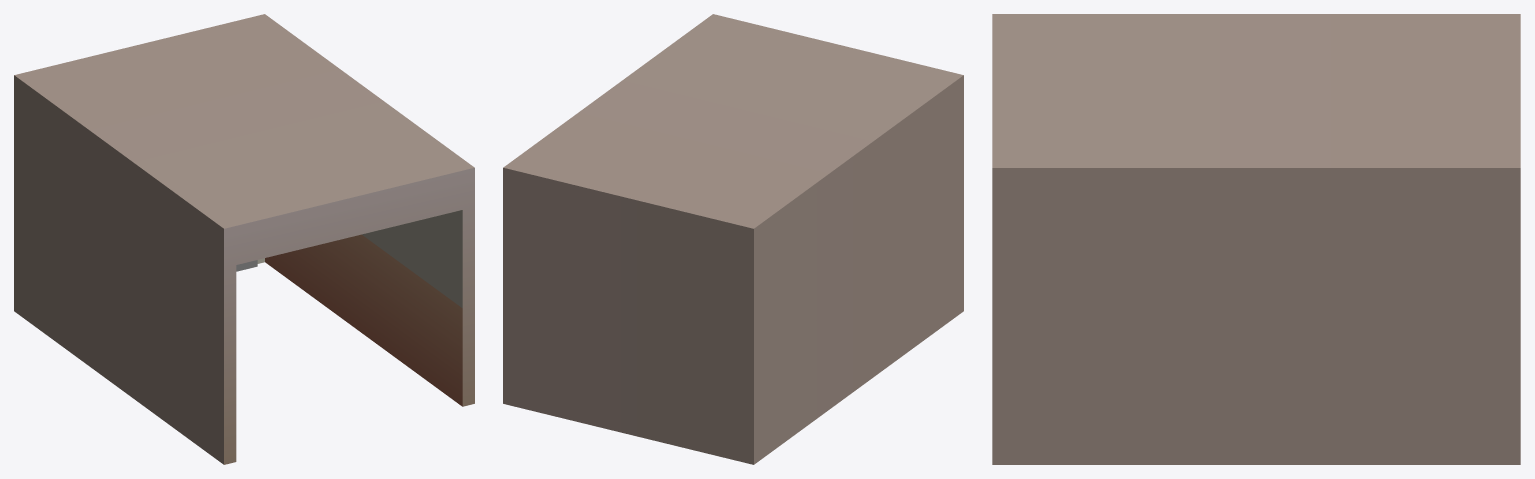
The model's file is B02_devanture_2.fbx.
The picture shows the model from 3 angles, left to right: view 1: azimuth 30°, elevation 25°; view 2: azimuth 150°, elevation 25°; view 3: azimuth 270°, elevation 25°; orthographic projection. The views are drawn at different scales.
Visible parts, largest first — view 1: B02_devanture_2; view 2: B02_devanture_2; view 3: B02_devanture_2.
Boxes of the visible parts, left/top/right/bottom form: B02_devanture_2: left=14, top=14, right=474, bottom=464; B02_devanture_2: left=503, top=14, right=963, bottom=464; B02_devanture_2: left=992, top=14, right=1520, bottom=464.
Bounding box in the file's own units: 500 × 450 × 725.
